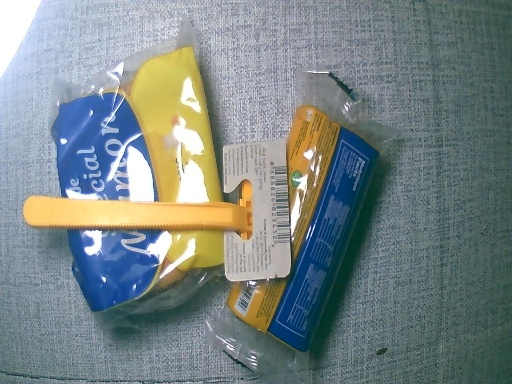plastic: (52, 13, 235, 354), (212, 68, 404, 384)
trash: (16, 138, 303, 280)
